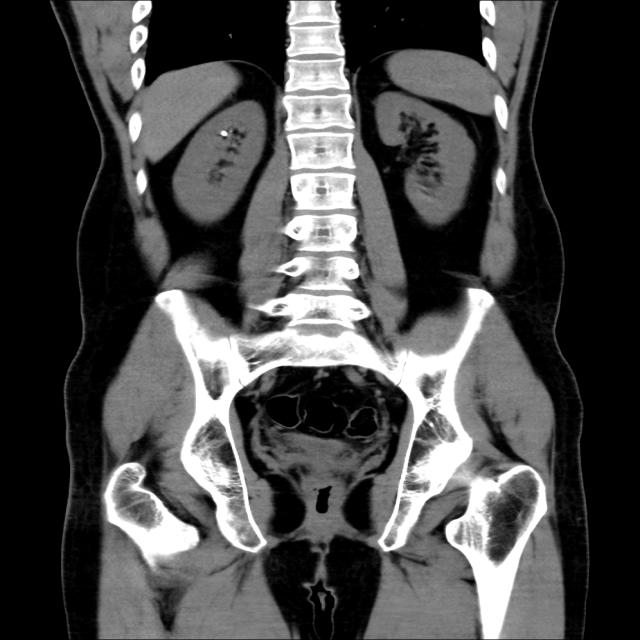kidneystone: (220, 130, 228, 137)
